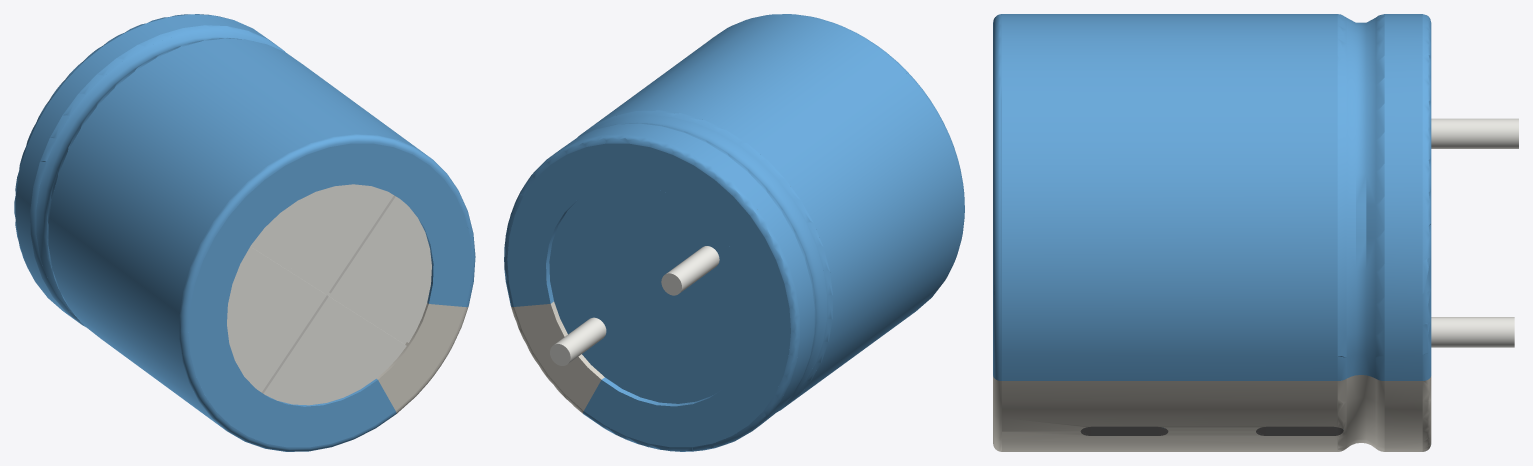
Rendered from CP_Radial_D10.0mm_P2.50mm_P5.00mm.glb.
3 views of the same model, side by side, from view 1: azimuth 30°, elevation 25°; view 2: azimuth 150°, elevation 25°; view 3: azimuth 270°, elevation 25° (orthographic). The views are drawn at different scales.
Parts seen in each view (by area): view 1: Shape_IndexedFaceSet.019, Shape_IndexedFaceSet.026, Shape_IndexedFaceSet.032, Shape_IndexedFaceSet.030, Shape_IndexedFaceSet.036, Shape_IndexedFaceSet.039, Shape_IndexedFaceSet.011, Shape_IndexedFaceSet.022, Shape_IndexedFaceSet.015, Shape_IndexedFaceSet.027, Shape_IndexedFaceSet.013, Shape_IndexedFaceSet.033 (+2 smaller); view 2: Shape_IndexedFaceSet.019, Shape_IndexedFaceSet.002, Shape_IndexedFaceSet.006, Shape_IndexedFaceSet.011, Shape_IndexedFaceSet.009, Shape_IndexedFaceSet.015, Shape_IndexedFaceSet.007, Shape_IndexedFaceSet.017, Shape_IndexedFaceSet.005, Shape_IndexedFaceSet.001, Shape_IndexedFaceSet.013, Shape_IndexedFaceSet.003 (+1 smaller); view 3: Shape_IndexedFaceSet.019, Shape_IndexedFaceSet.020, Shape_IndexedFaceSet.011, Shape_IndexedFaceSet.015, Shape_IndexedFaceSet.017, Shape_IndexedFaceSet.013, Shape_IndexedFaceSet.009, Shape_IndexedFaceSet.022, Shape_IndexedFaceSet.012, Shape_IndexedFaceSet.005, Shape_IndexedFaceSet.001, Shape_IndexedFaceSet.016 (+6 smaller).
Part boxes in pixels (x1,y1,x2,y2): Shape_IndexedFaceSet.019: [48, 38, 425, 430]; Shape_IndexedFaceSet.026: [188, 143, 471, 447]; Shape_IndexedFaceSet.032: [331, 196, 431, 342]; Shape_IndexedFaceSet.030: [263, 296, 406, 405]; Shape_IndexedFaceSet.036: [227, 246, 325, 391]; Shape_IndexedFaceSet.039: [252, 184, 393, 291]; Shape_IndexedFaceSet.011: [15, 14, 279, 322]; Shape_IndexedFaceSet.022: [179, 134, 475, 451]; Shape_IndexedFaceSet.015: [36, 30, 275, 315]; Shape_IndexedFaceSet.027: [378, 304, 465, 410]; Shape_IndexedFaceSet.013: [30, 25, 285, 326]; Shape_IndexedFaceSet.033: [250, 195, 406, 392]; Shape_IndexedFaceSet.019: [585, 14, 963, 408]; Shape_IndexedFaceSet.002: [549, 184, 752, 403]; Shape_IndexedFaceSet.006: [507, 143, 790, 447]; Shape_IndexedFaceSet.011: [550, 123, 814, 429]; Shape_IndexedFaceSet.009: [504, 134, 799, 451]; Shape_IndexedFaceSet.015: [588, 115, 826, 400]; Shape_IndexedFaceSet.007: [514, 304, 601, 410]; Shape_IndexedFaceSet.017: [577, 110, 832, 411]; Shape_IndexedFaceSet.005: [666, 246, 719, 293]; Shape_IndexedFaceSet.001: [554, 317, 606, 363]; Shape_IndexedFaceSet.013: [605, 122, 816, 408]; Shape_IndexedFaceSet.003: [546, 200, 722, 406]; Shape_IndexedFaceSet.019: [1002, 14, 1337, 380]; Shape_IndexedFaceSet.020: [1002, 381, 1337, 451]; Shape_IndexedFaceSet.011: [1384, 14, 1422, 380]; Shape_IndexedFaceSet.015: [1346, 18, 1375, 378]; Shape_IndexedFaceSet.017: [1337, 14, 1346, 380]; Shape_IndexedFaceSet.013: [1375, 14, 1384, 380]; Shape_IndexedFaceSet.009: [1422, 14, 1431, 380]; Shape_IndexedFaceSet.022: [993, 14, 1001, 380]; Shape_IndexedFaceSet.012: [1384, 381, 1422, 451]; Shape_IndexedFaceSet.005: [1431, 118, 1518, 148]; Shape_IndexedFaceSet.001: [1431, 317, 1514, 347]; Shape_IndexedFaceSet.016: [1346, 375, 1375, 447].
Size of the model in its own units: 3.94 by 3.93 by 4.72.
